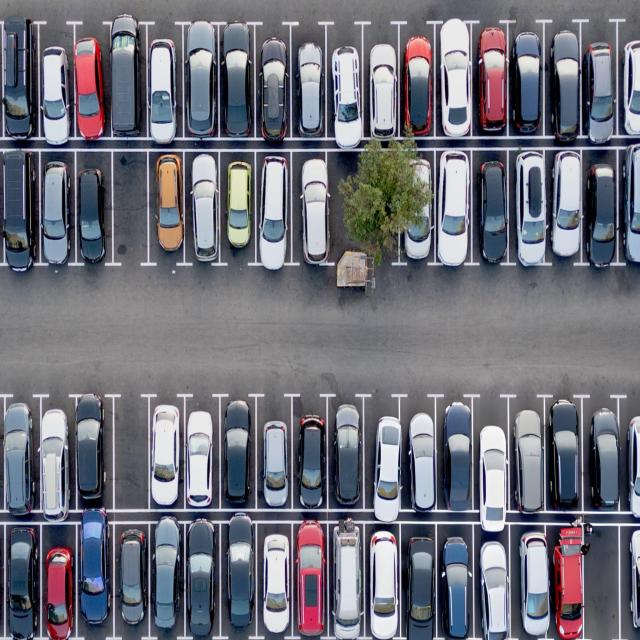space-empty: (582, 521, 621, 640), (110, 147, 149, 263), (112, 396, 150, 512)
space-occupied: (0, 520, 42, 638), (511, 520, 552, 638), (435, 520, 476, 638), (434, 146, 474, 266), (292, 150, 332, 270), (0, 392, 40, 511), (582, 394, 622, 512), (218, 518, 258, 636), (545, 394, 585, 512), (36, 148, 76, 266), (394, 148, 434, 266), (436, 394, 476, 511), (508, 394, 548, 511), (435, 18, 474, 138), (509, 145, 548, 264), (75, 520, 114, 639), (0, 147, 39, 266), (73, 148, 113, 264), (73, 395, 113, 511), (36, 23, 76, 139), (472, 146, 511, 264), (253, 149, 292, 267), (146, 148, 186, 263), (144, 21, 183, 138), (183, 518, 221, 638), (546, 18, 584, 138), (399, 520, 438, 636), (147, 519, 185, 638), (40, 520, 78, 638), (546, 146, 584, 264), (364, 520, 402, 638), (474, 518, 511, 639), (112, 522, 150, 639), (0, 22, 38, 139), (292, 521, 330, 637), (583, 145, 620, 264), (256, 520, 294, 635), (328, 520, 365, 638), (146, 396, 184, 510), (182, 396, 220, 510), (255, 395, 293, 509), (509, 20, 546, 137), (185, 148, 222, 264), (292, 394, 329, 510), (73, 24, 110, 140), (108, 21, 144, 140), (182, 23, 219, 138), (474, 18, 510, 136), (583, 19, 618, 139), (38, 396, 72, 518), (366, 395, 403, 507), (402, 394, 438, 509), (219, 23, 255, 138), (328, 23, 364, 138), (220, 149, 256, 263), (219, 395, 255, 509), (292, 25, 328, 137), (330, 394, 365, 509), (550, 522, 584, 640), (365, 22, 400, 136), (402, 21, 436, 135), (256, 24, 290, 138), (477, 396, 506, 515), (618, 18, 639, 138), (619, 142, 639, 266), (620, 520, 639, 638), (621, 393, 639, 513)
